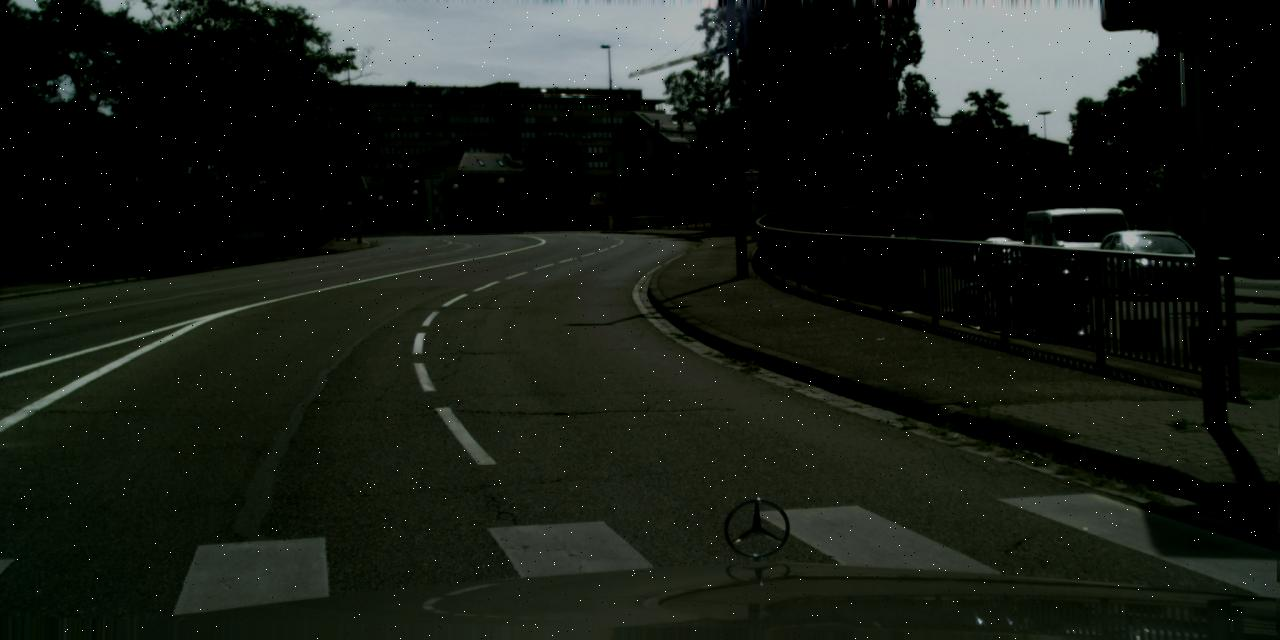ped: (160, 222, 180, 270), (142, 228, 159, 268), (340, 214, 351, 240), (353, 213, 363, 240), (331, 216, 341, 240)
